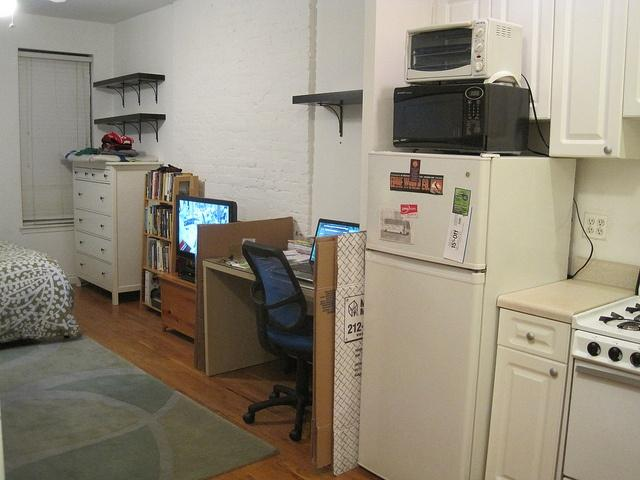AIO PC-Monitor-TV: (174, 196, 235, 259)
Kursi: (241, 239, 314, 441)
